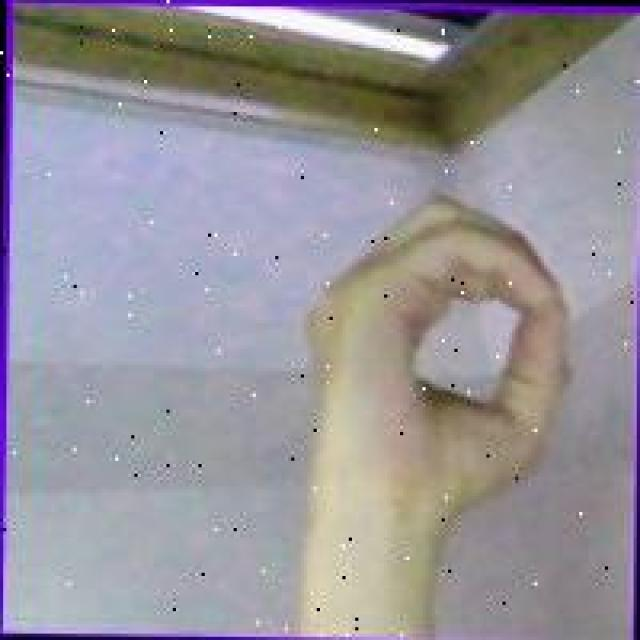O: (290, 184, 584, 558)
